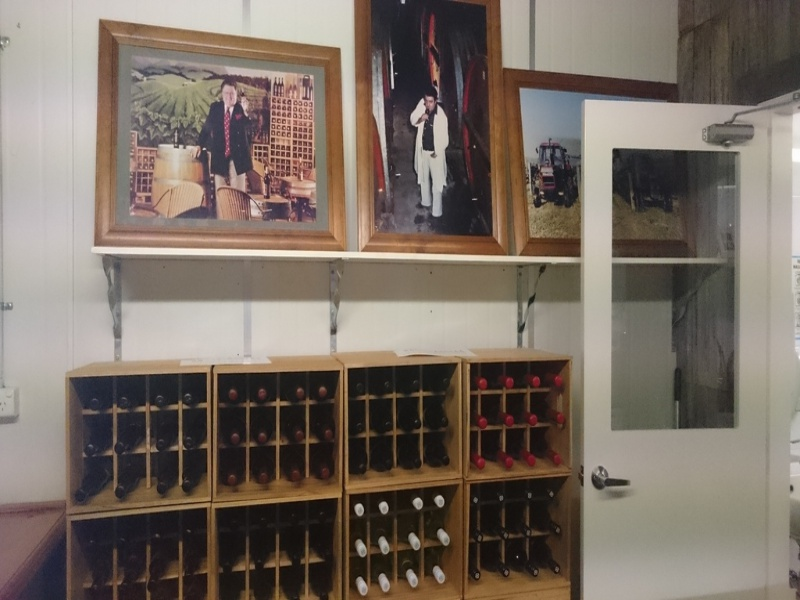wine: (53, 346, 580, 600)
